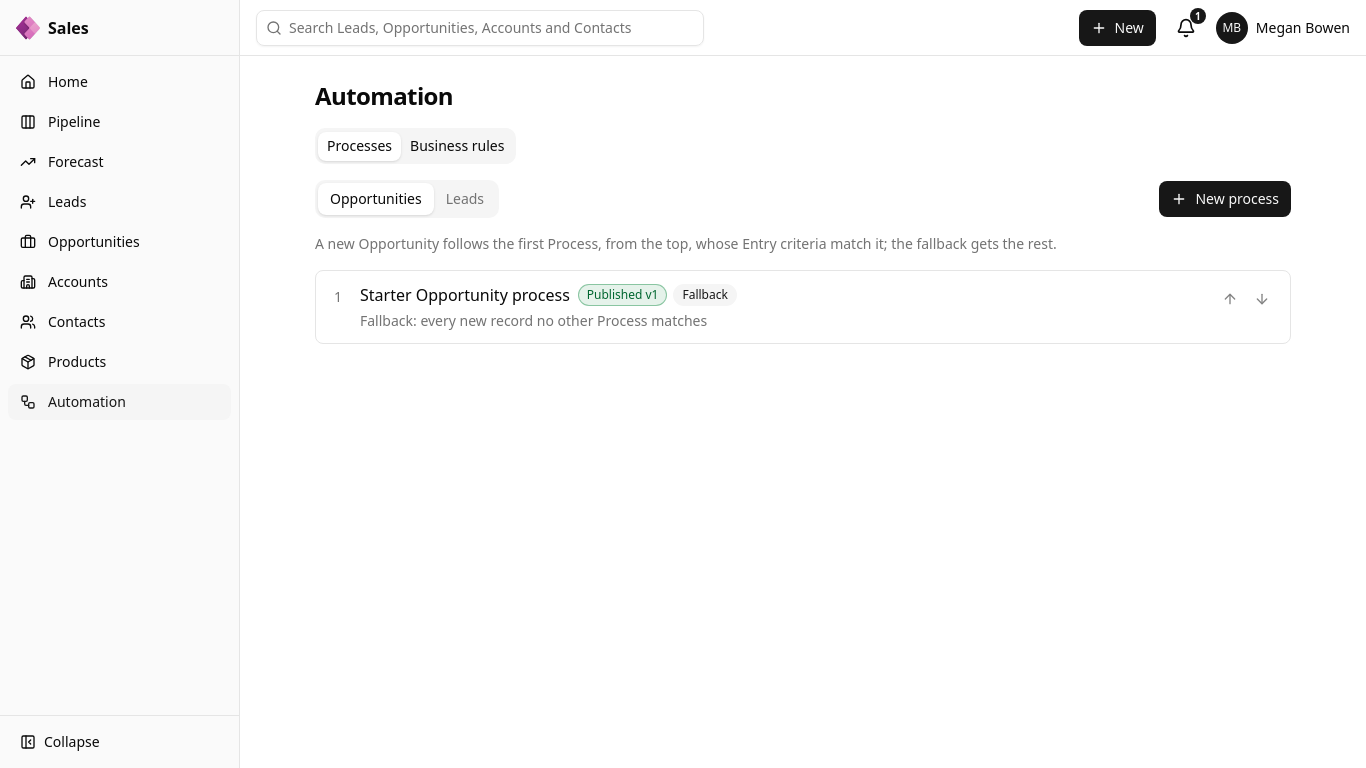
the Business rules tab › lists a table's rules with an on/off switch, the When summary, effect chips and who changed it last
The image size is (1366, 768).
Click the tab "Business rules". click: (457, 146)
box: [401,132,513,160]
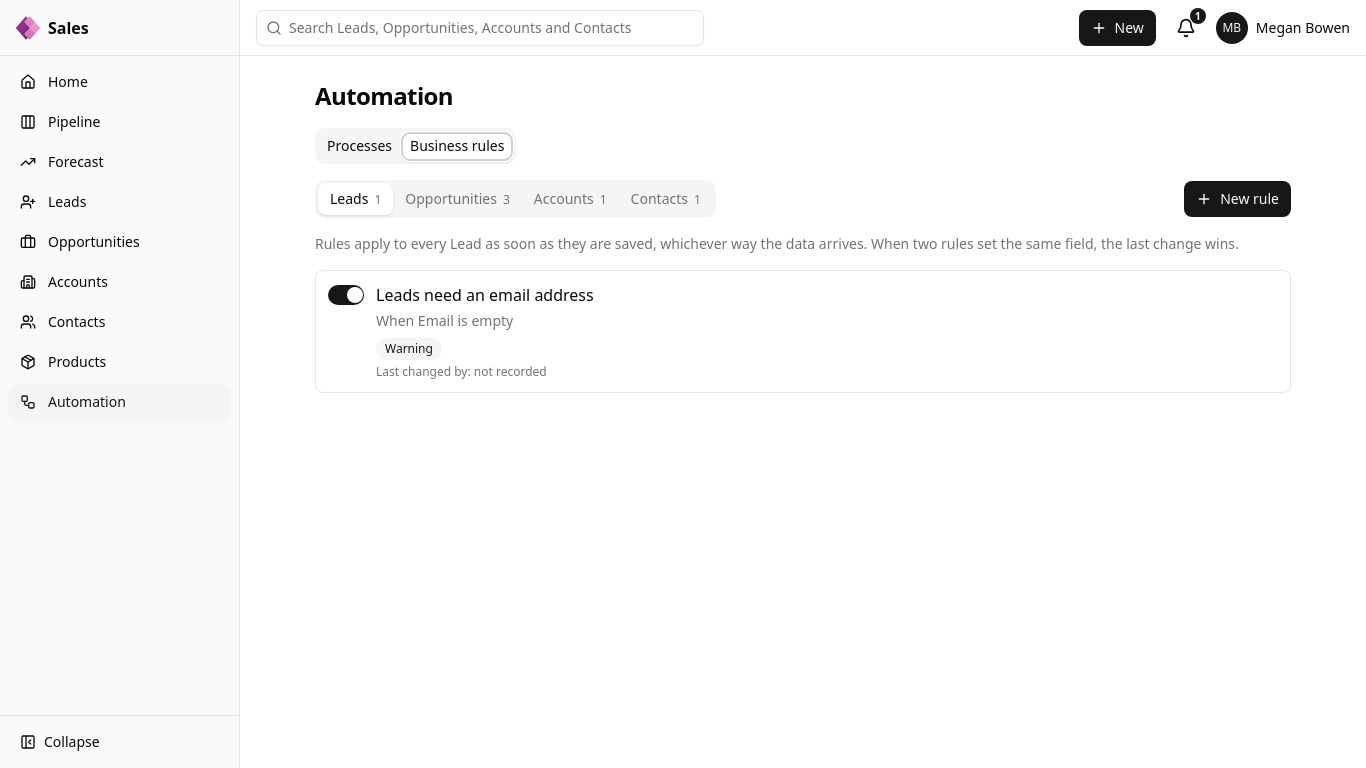
Click the button "Opportunities3". click: (458, 199)
box: [393,183,522,215]
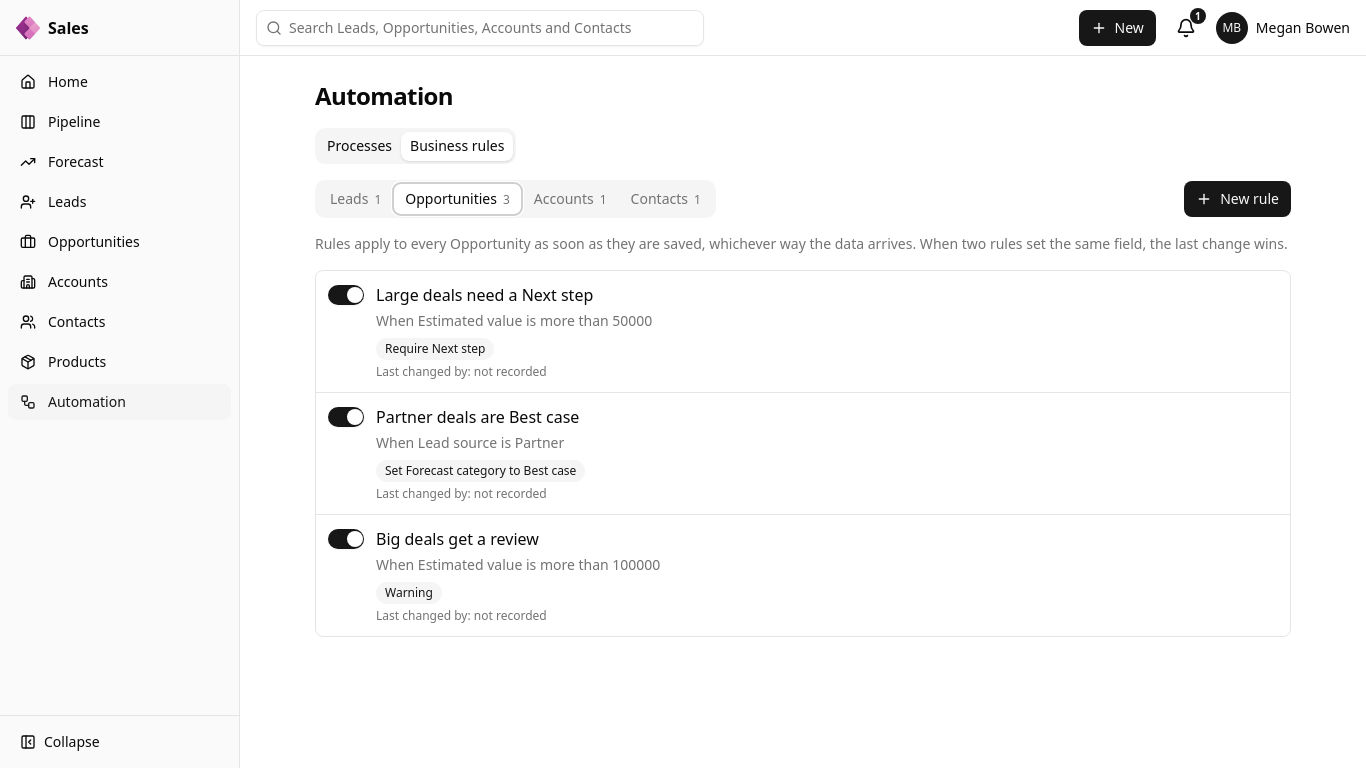
Result: the switch named "Switch off Large deals need a Next step" is checked at [328,285,364,305]
Result: the text "When Estimated value is more than 50000" is shown at [376,311,652,330]
Result: the text "Require Next step" is shown at [376,338,494,360]
